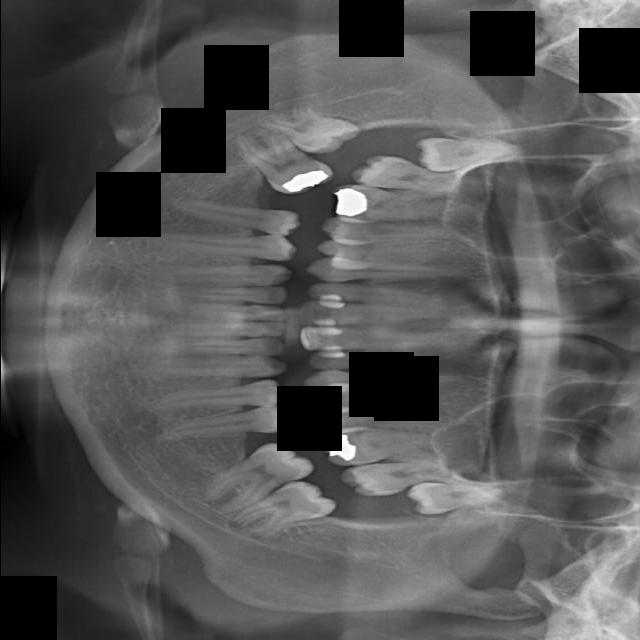3M ESPE Implant: (413, 136, 516, 171)
AGS Medikal Implant: (309, 349, 436, 369)
AMerOss Implant: (301, 356, 464, 397)
Amalgam filling: (309, 386, 442, 413)
Anthogyr Implant: (312, 404, 465, 434)
Bicon Implant: (318, 421, 449, 469)
BioHorizons Implant: (339, 458, 441, 499)
BioLife Implant: (405, 475, 502, 515)
Biomet 3i Implant: (222, 472, 338, 547)
Blue Sky Bio Implant: (194, 429, 314, 522)
Caries: (348, 154, 458, 191)
Composite filling: (163, 404, 291, 441)
Cowellmedi Implant: (147, 379, 286, 415)
Crown: (144, 356, 285, 377)
DENTSPLY Implant: (170, 336, 281, 356)
Dentatus Implant: (161, 322, 285, 338)
Dentis Implant: (169, 300, 286, 322)
Dentium Implant: (173, 287, 286, 305)
Euroteknika Implant: (154, 265, 293, 286)
Filling: (146, 224, 298, 262)
Frontier Implant: (162, 197, 301, 237)
Hiossen Implant: (327, 181, 471, 234)
Implant: (222, 114, 337, 213)
Keystone Dental Implant: (254, 88, 361, 168)
MIS Implant: (320, 216, 455, 248)
Mandible: (316, 239, 448, 264)
Maxilla: (302, 257, 462, 282)
Megagen Implant: (305, 280, 442, 311)
Neodent Implant: (296, 299, 448, 333)
Neoss Implant: (298, 323, 454, 351)
